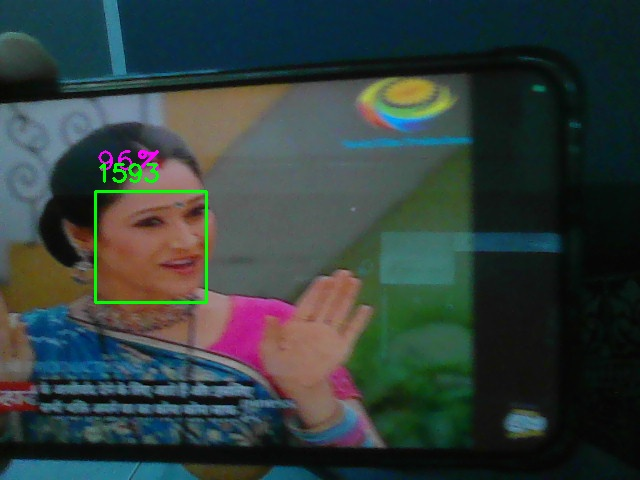fake: (95, 191, 207, 303)
